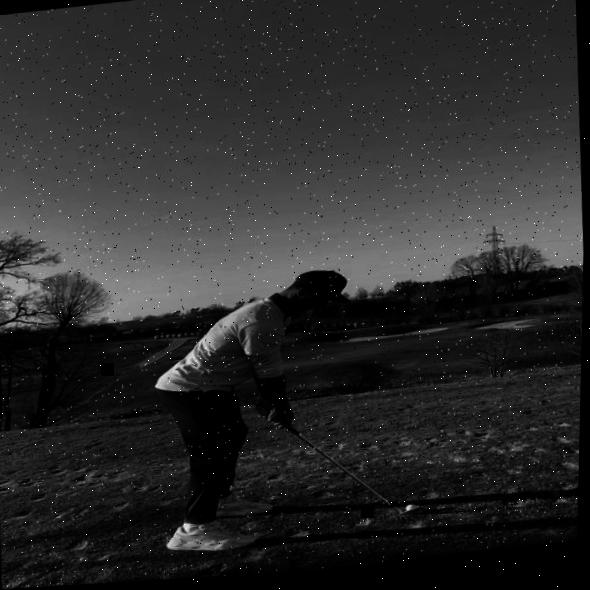ClubHead: (405, 512, 429, 521)
GolfBall: (409, 508, 420, 516)
